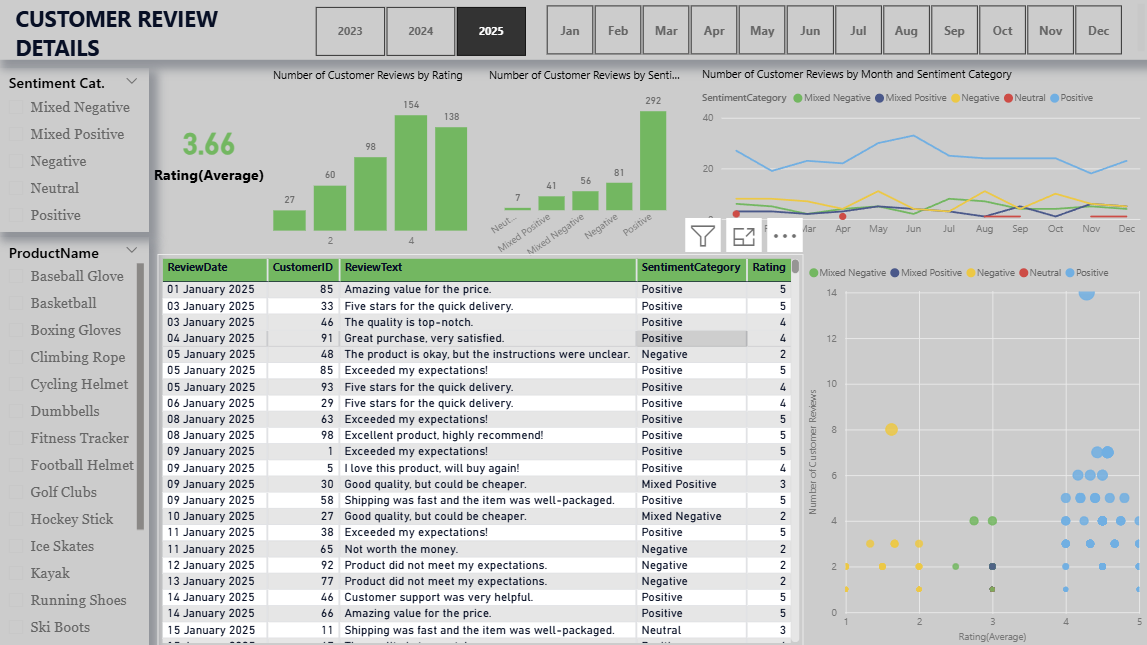

This screenshot's page, from the dashboard's own definition file:
{"tool":"powerbi","page":{"name":"Customer Review Details","canvas":[1280,720],"ordinal":3},"visuals":[{"type":"textbox","box":[0,0,1280,68],"z":0},{"type":"slicer","fields":{"Values":["dim_products.ProductName"]},"box":[0,265.6,168.6,454.9],"z":1000},{"type":"slicer","fields":{"Values":["Calendar.Date.Variation.Date Hierarchy.Year"]},"box":[327.7,1.6,283.1,68.4],"z":2000},{"type":"slicer","fields":{"Values":["Calendar.MonthNameShort"]},"box":[585.3,0,688.7,68.4],"z":3000},{"type":"card","fields":{"Values":["_measure.Rating(Average)"]},"box":[168.6,76.3,133.6,182.9],"z":4000},{"type":"clusteredColumnChart","fields":{"Y":["_measure.Number of Customer Reviews"],"Category":["fact_customer_reviews_with_sentiment.Rating"]},"box":[302.2,76.3,225.9,208.4],"z":5000},{"type":"clusteredColumnChart","fields":{"Y":["_measure.Number of Customer Reviews"],"Category":["fact_customer_reviews_with_sentiment.SentimentCategory"]},"box":[542.4,76.3,222.7,222.7],"z":6000},{"type":"lineChart","title":"Number of Customer Reviews by Month and Sentiment Category","fields":{"Y":["_measure.Number of Customer Reviews"],"Series":["fact_customer_reviews_with_sentiment.SentimentCategory"],"Category":["Calendar.MonthNameShort"]},"box":[778.6,75.7,497.1,197.1],"z":7000},{"type":"tableEx","fields":{"Values":["fact_customer_reviews_with_sentiment.ReviewDate","fact_customer_reviews_with_sentiment.CustomerID","fact_customer_reviews_with_sentiment.ReviewText","fact_customer_reviews_with_sentiment.SentimentCategory","fact_customer_reviews_with_sentiment.Rating"]},"box":[178,284,718,436],"z":8000},{"type":"scatterChart","fields":{"X":["_measure.Rating(Average)"],"Y":["_measure.Number of Customer Reviews"],"Category":["fact_customer_reviews_with_sentiment.CustomerID"],"Series":["fact_customer_reviews_with_sentiment.SentimentCategory"],"Size":["_measure.Number of Customer Reviews"]},"box":[896.7,285,380,435],"z":9000},{"type":"slicer","fields":{"Values":["fact_customer_reviews_with_sentiment.SentimentCategory"]},"box":[0,76.3,168.6,182.9],"z":10000}]}

Visuals, with their boxes in screenshot pixels (x1, y1, x2, y2), scaled from the page's 1280x720 canvas onto the 1147x645 screenshot:
textbox: Rect(0, 0, 1146, 61)
slicer - dim_products.ProductName: Rect(0, 238, 151, 644)
slicer - Calendar.Date.Variation.Date Hierarchy.Year: Rect(294, 1, 547, 63)
slicer - Calendar.MonthNameShort: Rect(524, 0, 1142, 61)
card - _measure.Rating(Average): Rect(151, 68, 271, 232)
clusteredColumnChart - _measure.Number of Customer Reviews x fact_customer_reviews_with_sentiment.Rating: Rect(271, 68, 473, 255)
clusteredColumnChart - _measure.Number of Customer Reviews x fact_customer_reviews_with_sentiment.SentimentCategory: Rect(486, 68, 686, 268)
"Number of Customer Reviews by Month and Sentiment Category" lineChart: Rect(698, 68, 1143, 244)
tableEx - fact_customer_reviews_with_sentiment.ReviewDate x fact_customer_reviews_with_sentiment.CustomerID: Rect(160, 254, 803, 644)
scatterChart - _measure.Rating(Average) x _measure.Number of Customer Reviews: Rect(804, 255, 1144, 644)
slicer - fact_customer_reviews_with_sentiment.SentimentCategory: Rect(0, 68, 151, 232)
